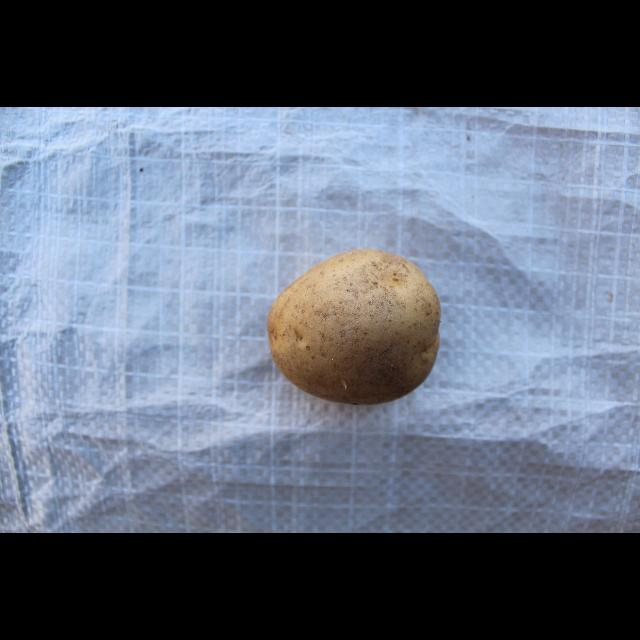Diseased-fungal potato: (260, 245, 448, 407)
